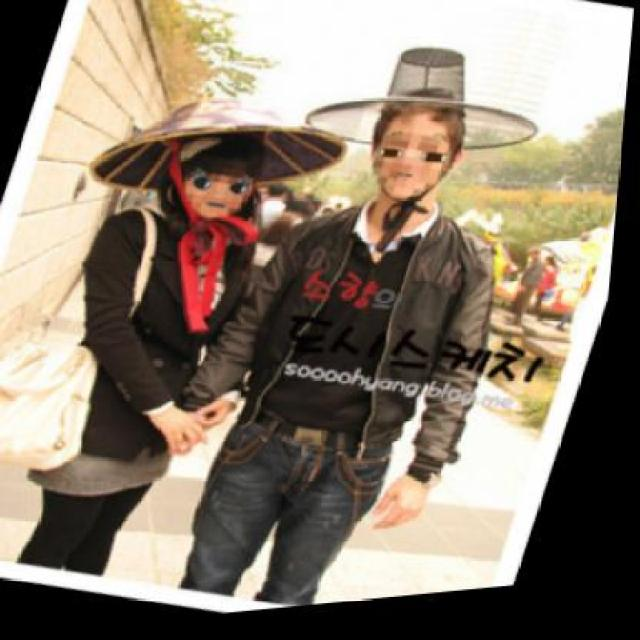hat: (309, 55, 542, 160), (93, 103, 349, 197)
